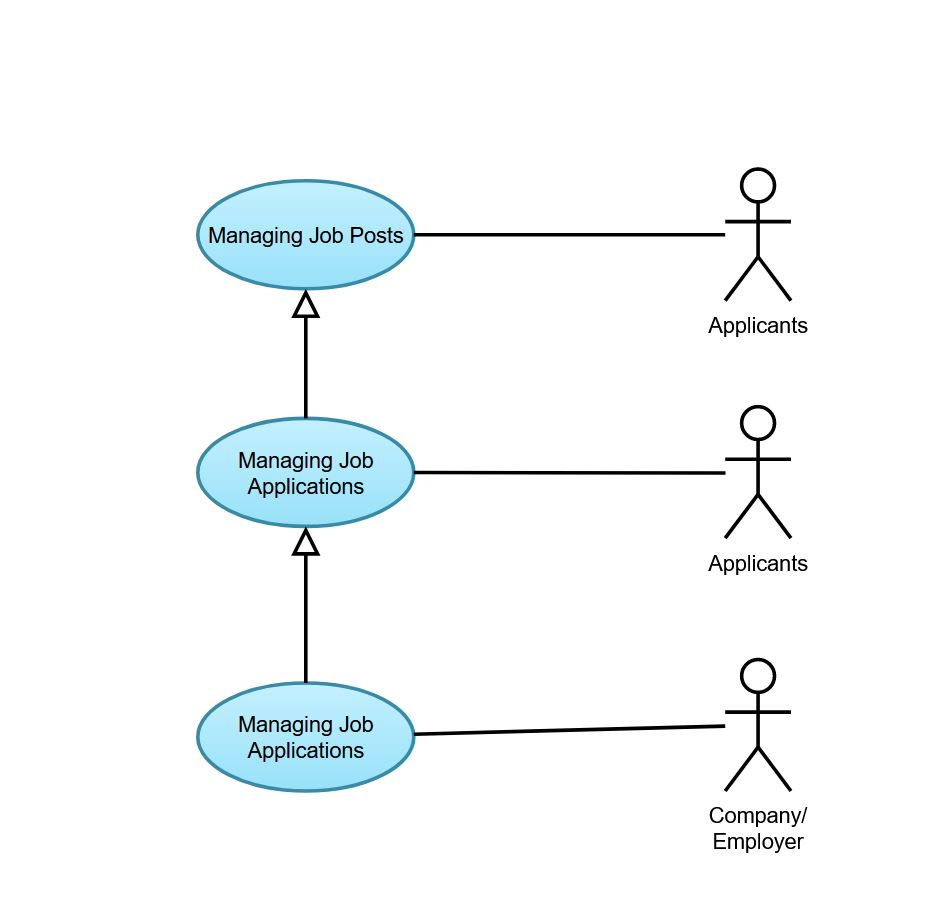actor: (722, 654, 798, 794), (723, 159, 794, 306), (722, 404, 796, 543)
association: (417, 707, 727, 752), (416, 452, 726, 488), (416, 217, 724, 248)
generalization: (285, 528, 327, 681), (284, 289, 326, 416)
text: (232, 444, 387, 499), (235, 711, 380, 763), (204, 216, 405, 252), (705, 798, 815, 854), (705, 547, 822, 584), (707, 314, 815, 339)
use_case: (194, 680, 418, 796), (192, 177, 416, 292), (193, 414, 417, 529)
